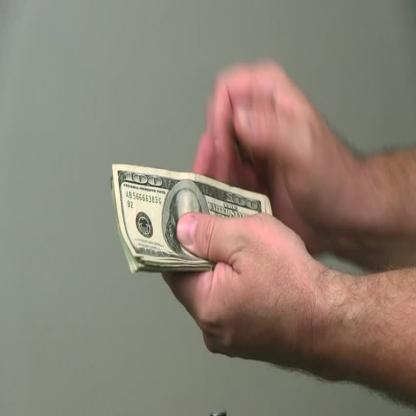billete: (109, 160, 273, 278)
